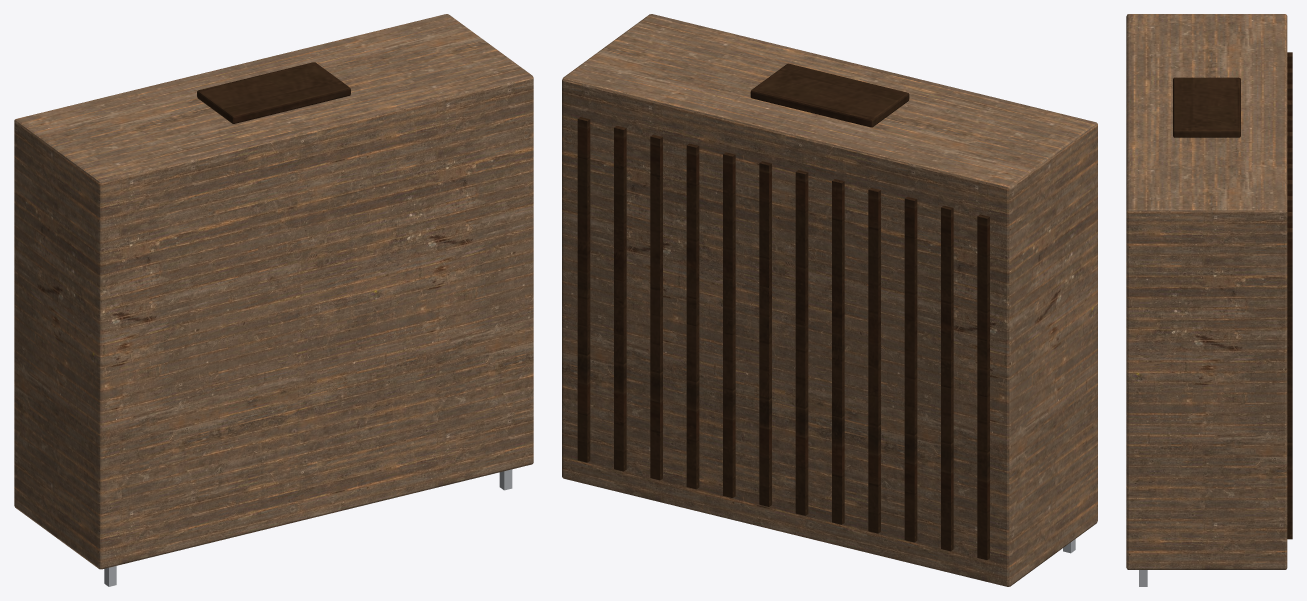
The model's file is shoes.glb.
3 views of the same model, side by side, from view 1: azimuth 30°, elevation 25°; view 2: azimuth 150°, elevation 25°; view 3: azimuth 270°, elevation 25° (orthographic). The views are drawn at different scales.
Visible parts, largest first — view 1: shoes_body, shoes_tray; view 2: shoes_body, shoes_slats, shoes_tray; view 3: shoes_body, shoes_tray, shoes_slats.
Boxes of the visible parts, x1,y1,x2,y2 form: shoes_body: (14,14,533,569); shoes_tray: (197,62,350,123); shoes_body: (562,14,1097,586); shoes_slats: (577,117,989,559); shoes_tray: (750,63,909,127); shoes_body: (1126,14,1287,569); shoes_tray: (1173,77,1240,137); shoes_slats: (1287,52,1292,539).
Size of the model in its own units: 1.1 by 1.02 by 0.392.
Materials: 3 (2 with a texture image).
